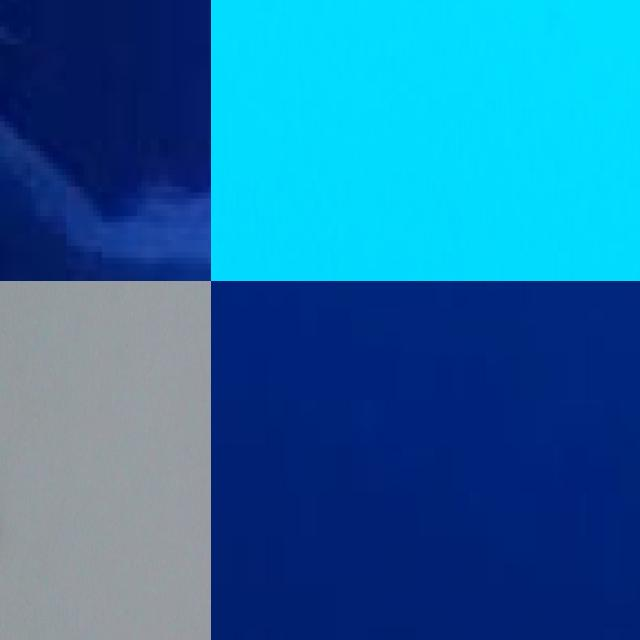fish: (0, 0, 211, 281)
